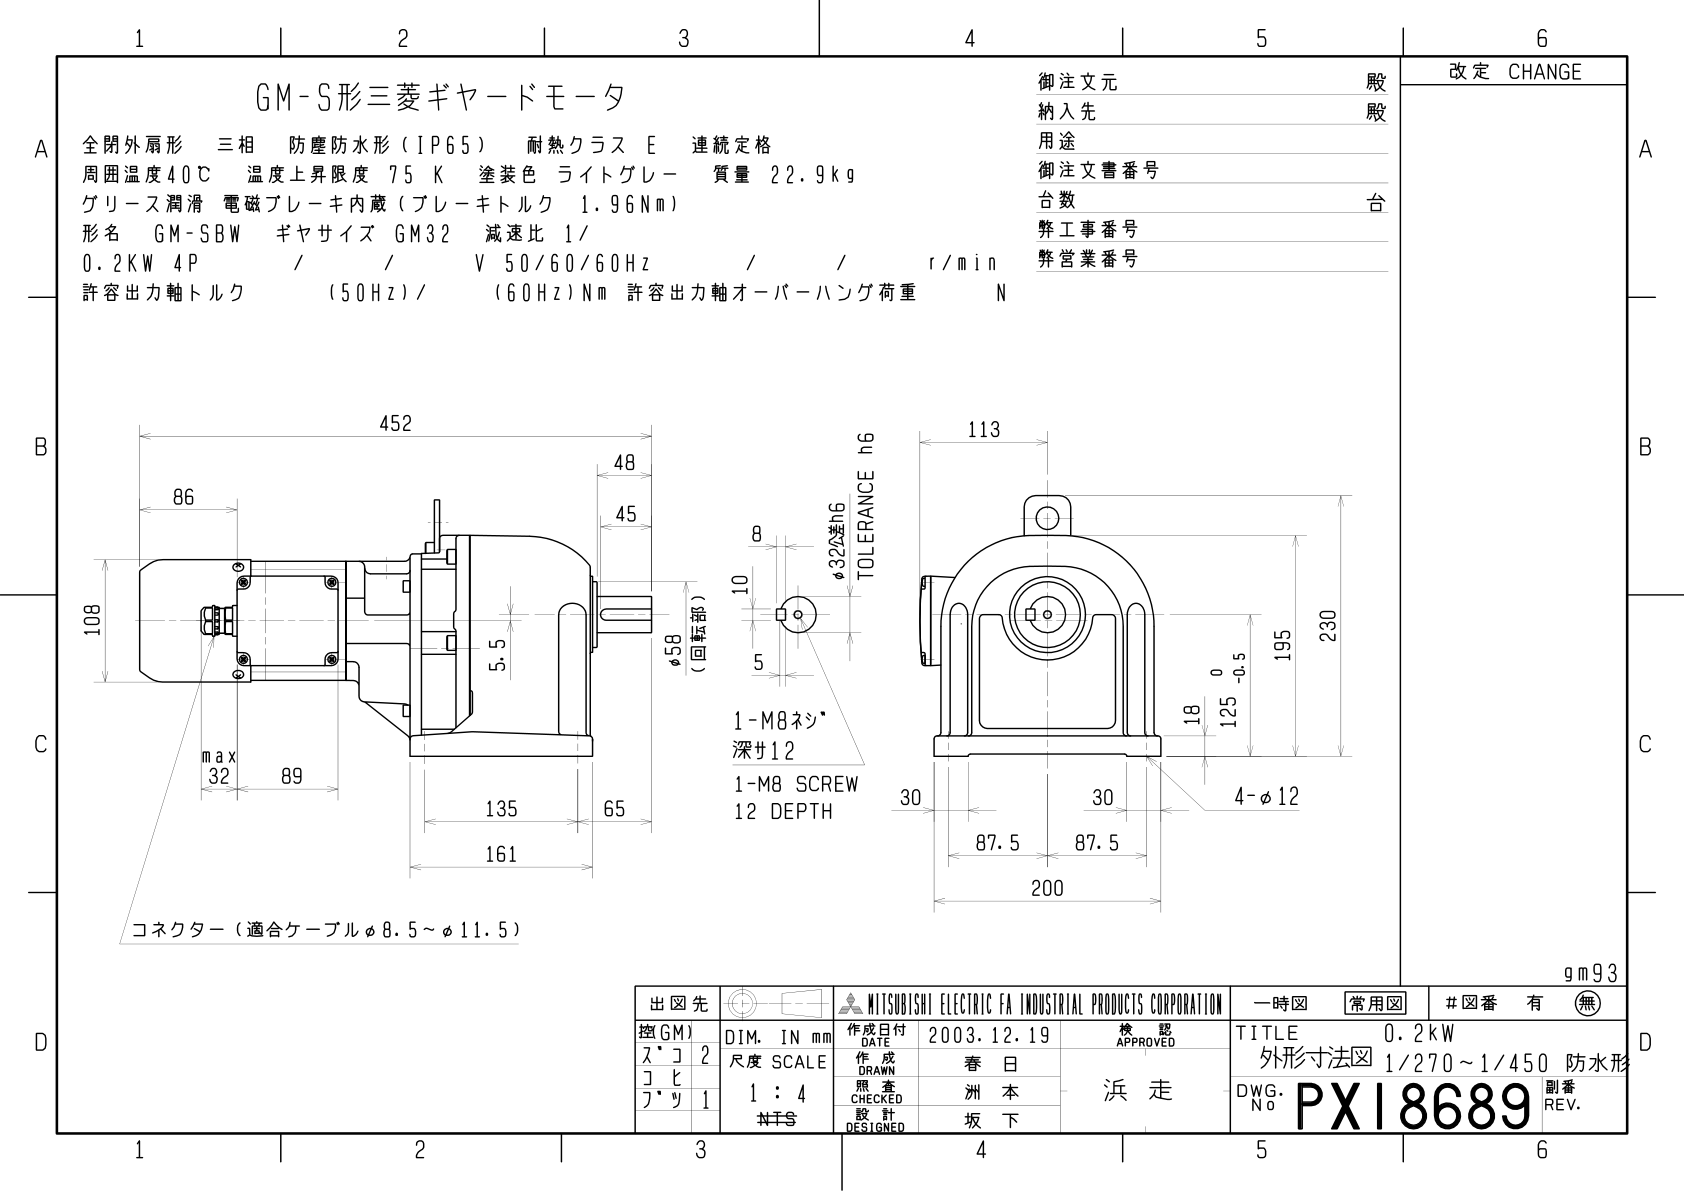GM_S_IP65＿三相_脚: (71, 382, 1383, 956)
